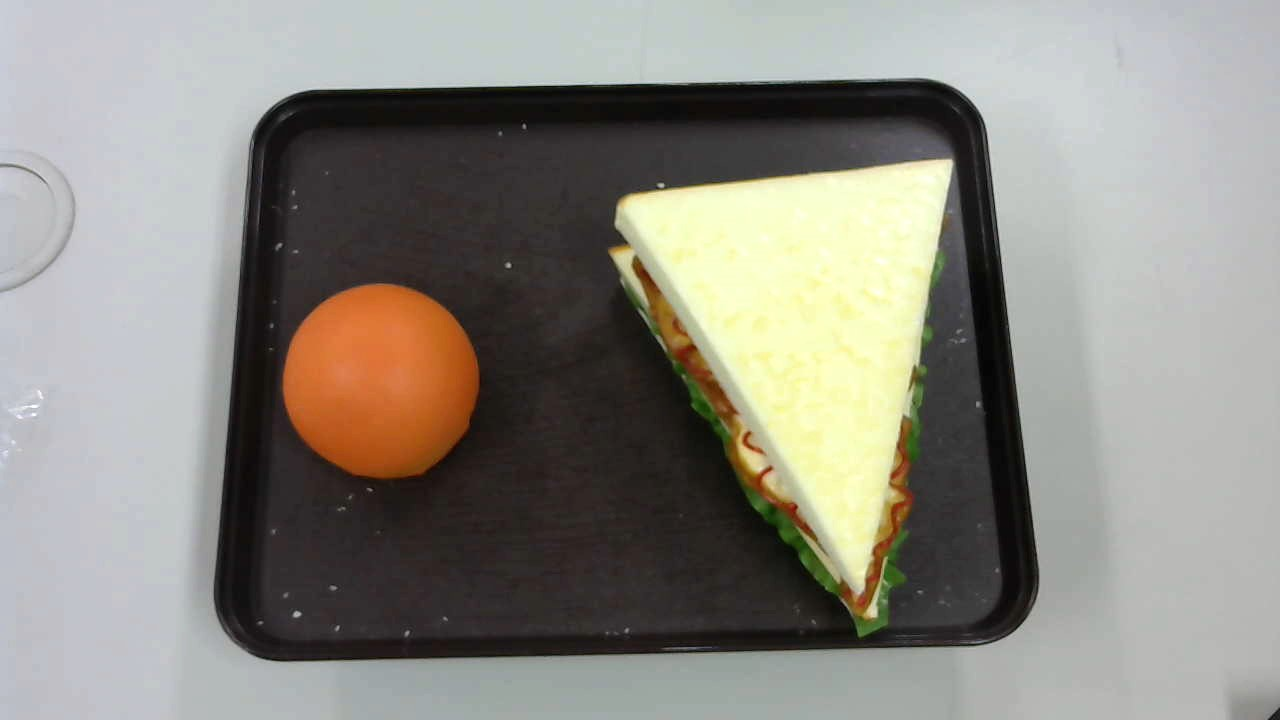bun: (282, 282, 480, 479)
sandwich: (608, 158, 955, 638)
